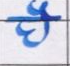ai_matra: (27, 0, 54, 18)
